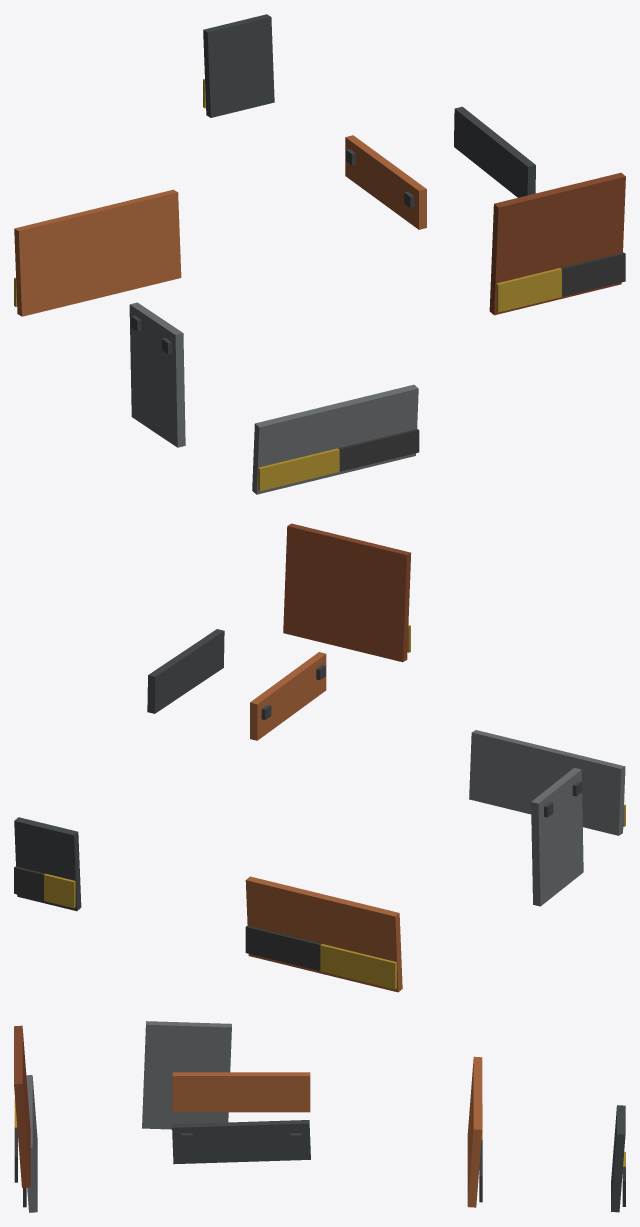
Rendered from upg_armor_plates_t2.glb.
The picture shows the model from 3 angles, top to bottom: view 1: azimuth 30°, elevation 25°; view 2: azimuth 150°, elevation 25°; view 3: azimuth 270°, elevation 25°; orthographic projection. The views are drawn at different scales.
Visible parts, largest first — view 1: armor_plates; view 2: armor_plates; view 3: armor_plates.
Part boxes in pixels (left/top/right/bottom): armor_plates: left=14, top=14, right=625, bottom=494; armor_plates: left=14, top=523, right=625, bottom=992; armor_plates: left=14, top=1021, right=625, bottom=1212.
Size of the model in its own units: 1.44 by 0.8513 by 2.14.
